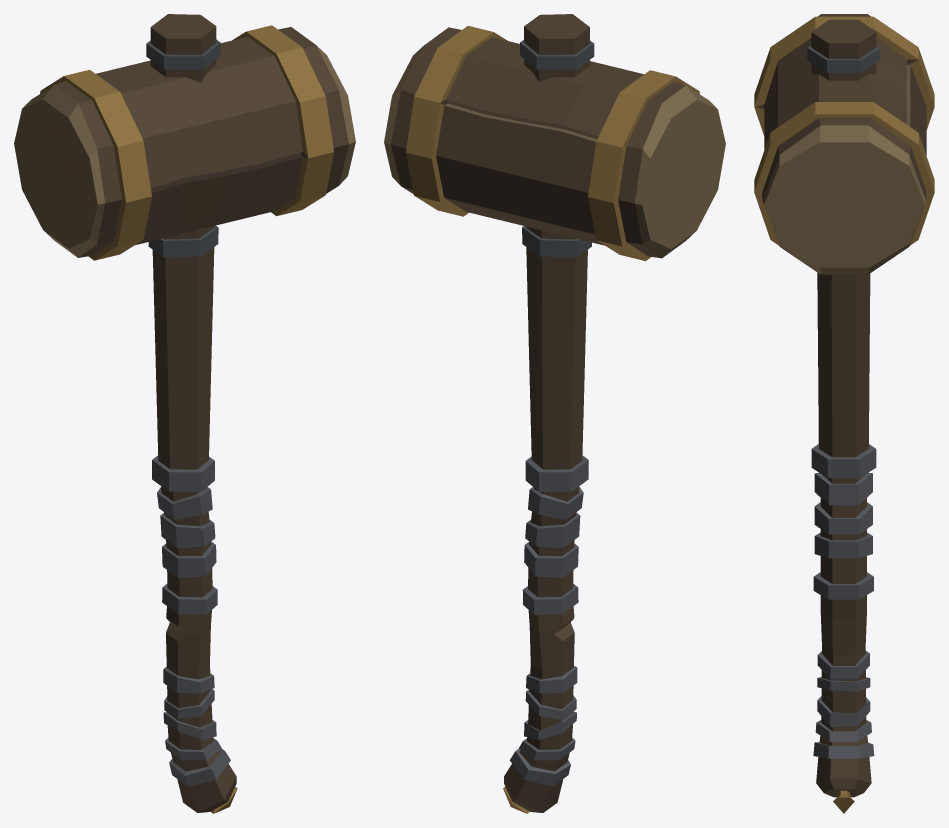
File: Hammer.glb
3 views of the same model, side by side, from view 1: azimuth 30°, elevation 25°; view 2: azimuth 150°, elevation 25°; view 3: azimuth 270°, elevation 25° (orthographic). The views are drawn at different scales.
Parts seen in each view (by area): view 1: Hammer; view 2: Hammer; view 3: Hammer.
Boxes of the visible parts, bbox=[...] form: Hammer: bbox=[14, 14, 355, 813]; Hammer: bbox=[384, 14, 725, 813]; Hammer: bbox=[754, 14, 934, 813].
Size of the model in its own units: 12665 by 37101 by 7980.
1 material, 1 textured.
